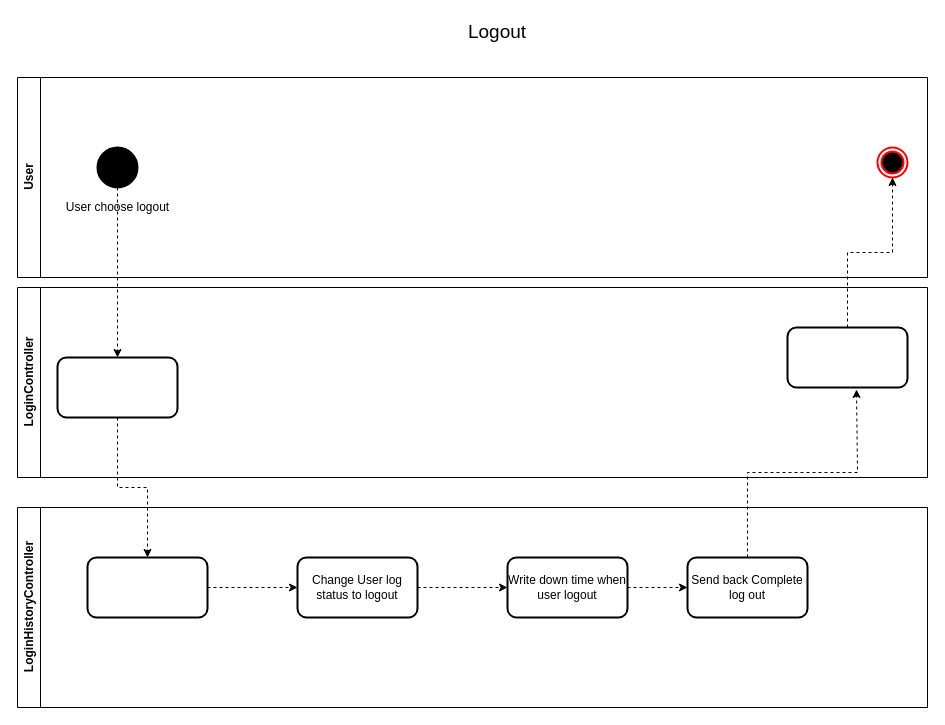
The diagram is 945 pixels wide and 725 high, and some of its shapes have lost their labels. The centre of each missing label's shape, as x and y in pixels:
Find User Session history: point 147,587
Promp Logout Success: point 847,357
send User logout request: point 117,387
